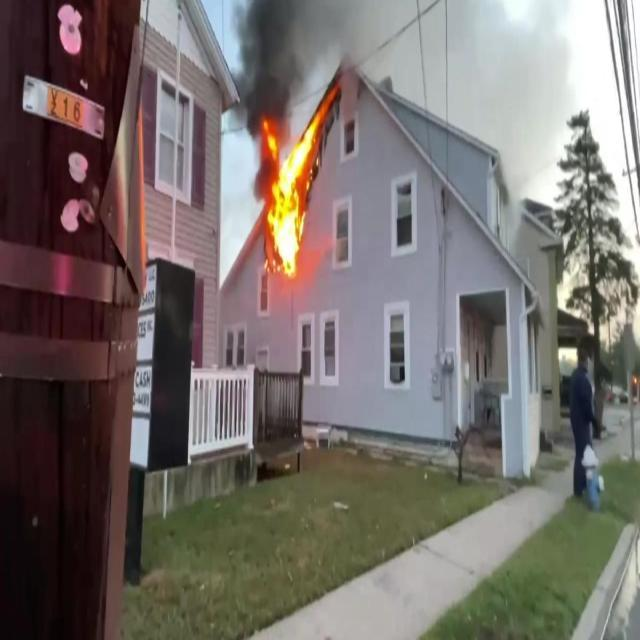Fire: (261, 112, 319, 276)
Smoke: (232, 0, 336, 201)
